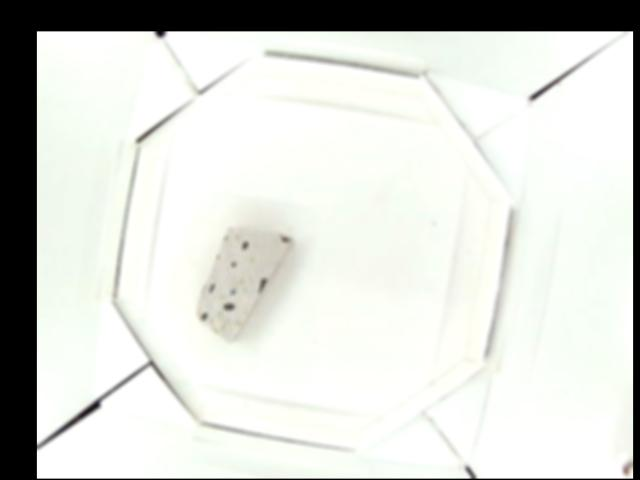China: (197, 226, 294, 340)
